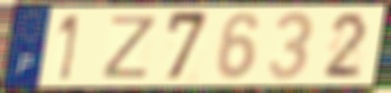1: (55, 12, 82, 82)
2: (320, 10, 370, 82)
3: (267, 10, 318, 83)
6: (212, 9, 264, 84)
7: (164, 9, 211, 85)
Z: (98, 14, 160, 81)
